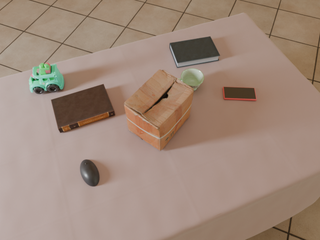book: (51, 84, 115, 133), (170, 37, 220, 68)
box: (124, 70, 194, 151)
cup: (177, 68, 204, 90)
mouse: (80, 160, 99, 186)
phone: (223, 87, 256, 100)
toy_car: (29, 63, 64, 94)
